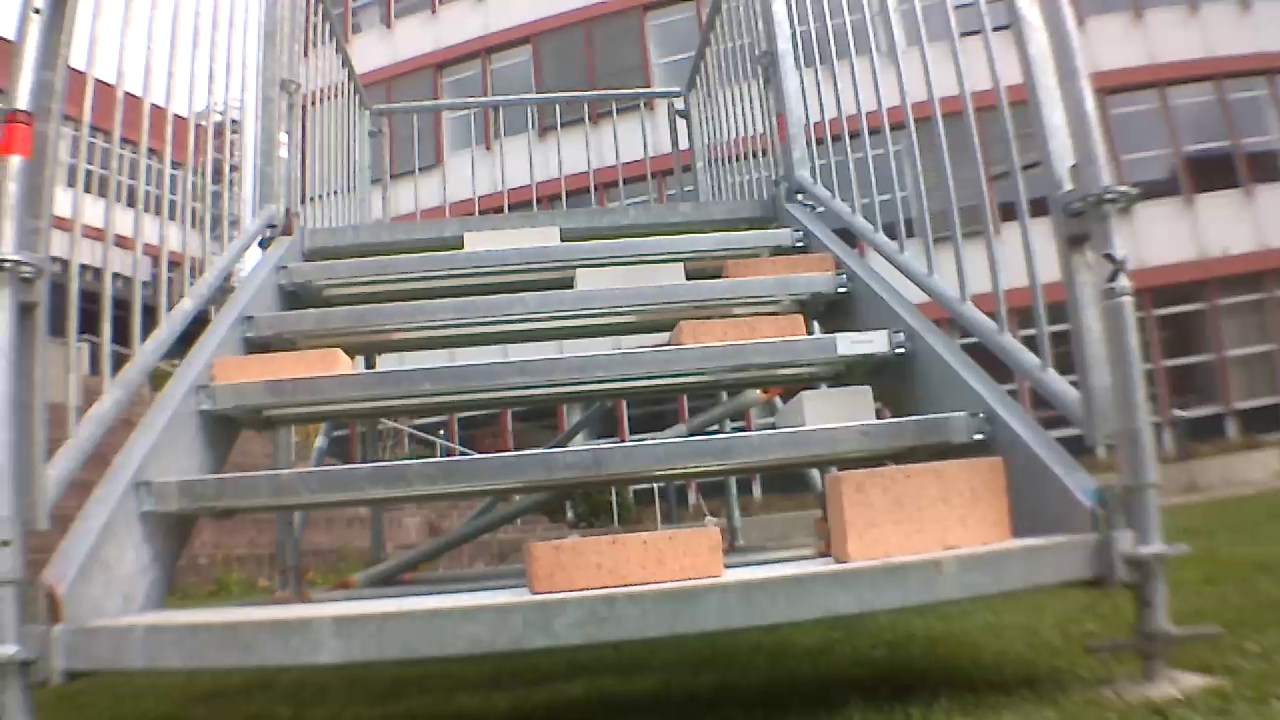brick: (838, 459, 1013, 566), (524, 525, 736, 597), (205, 338, 354, 383), (571, 254, 689, 294), (675, 312, 810, 344), (779, 387, 871, 428), (454, 220, 560, 252), (720, 249, 835, 276)
edge: (48, 534, 1138, 681), (133, 408, 986, 514), (194, 326, 914, 405), (237, 270, 858, 337), (280, 226, 814, 290), (301, 196, 778, 252)
stairs: (0, 0, 1208, 698)
steps: (22, 189, 1104, 676)
